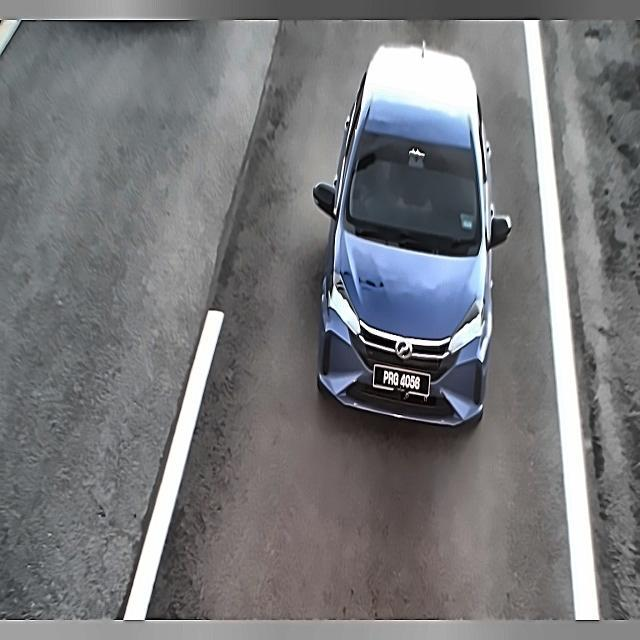car: (375, 360, 432, 404)
